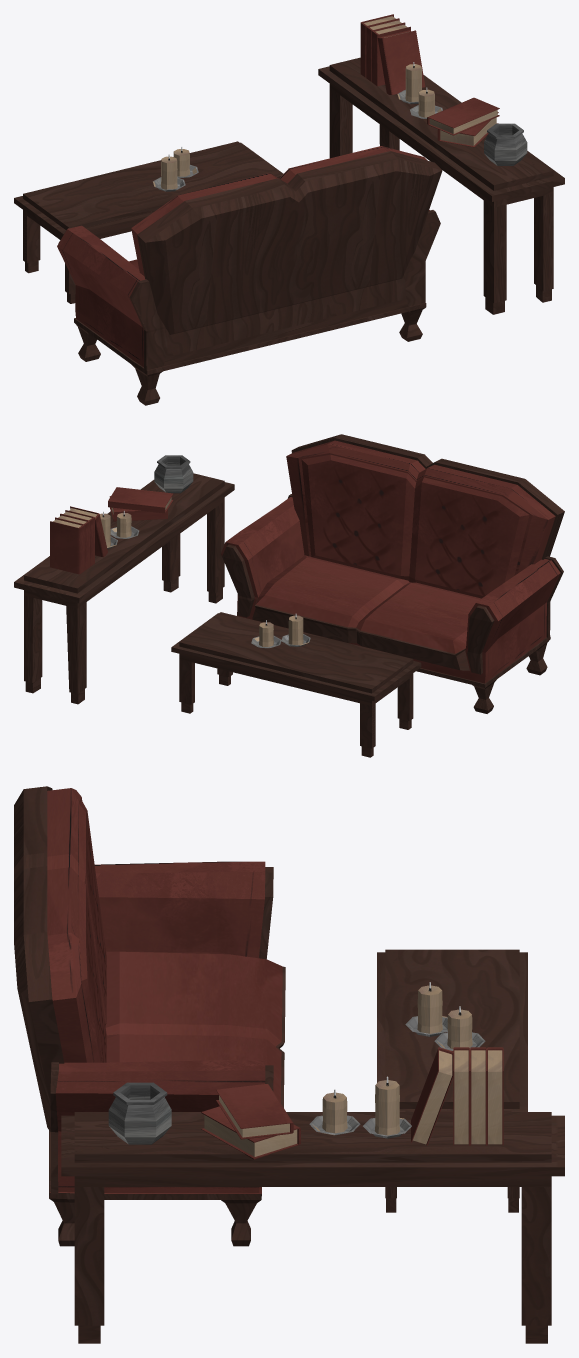
Rendered from fazladan koltuk.fbx.
The picture shows the model from 3 angles, top to bottom: view 1: azimuth 30°, elevation 25°; view 2: azimuth 150°, elevation 25°; view 3: azimuth 270°, elevation 25°; orthographic projection. The views are drawn at different scales.
Parts seen in each view (by area): view 1: KOLTUK.001, Cube.037, Cube.036, Cube.043, Cube.040, Cube.041, Cylinder.011, Cube.042, Cube.059, Cube.061, Cube.062, Cube.060; view 2: KOLTUK.001, Cube.036, Cube.037, Cube.040, Cube.041, Cylinder.011, Cube.059, Cube.043, Cube.060, Cube.062, Cube.042; view 3: KOLTUK.001, Cube.037, Cube.036, Cube.040, Cylinder.011, Cube.041, Cube.043, Cube.042, Cube.061, Cube.059, Cube.062, Cube.060.
Boxes of the visible parts, x1=… form: KOLTUK.001: x1=57, y1=146, x2=442, y2=405; Cube.037: x1=318, y1=57, x2=564, y2=314; Cube.036: x1=14, y1=141, x2=283, y2=303; Cube.043: x1=377, y1=30, x2=425, y2=94; Cube.040: x1=360, y1=14, x2=410, y2=86; Cube.041: x1=427, y1=97, x2=499, y2=135; Cylinder.011: x1=484, y1=123, x2=527, y2=165; Cube.042: x1=437, y1=112, x2=498, y2=147; Cube.059: x1=153, y1=154, x2=185, y2=191; Cube.061: x1=397, y1=62, x2=421, y2=104; Cube.062: x1=410, y1=87, x2=442, y2=118; Cube.060: x1=173, y1=146, x2=198, y2=177; KOLTUK.001: x1=221, y1=434, x2=564, y2=713; Cube.036: x1=171, y1=612, x2=421, y2=757; Cube.037: x1=14, y1=473, x2=234, y2=704; Cube.040: x1=50, y1=510, x2=94, y2=574; Cube.041: x1=108, y1=487, x2=173, y2=513; Cylinder.011: x1=154, y1=455, x2=193, y2=493; Cube.059: x1=281, y1=613, x2=310, y2=646; Cube.043: x1=69, y1=506, x2=107, y2=557; Cube.060: x1=251, y1=620, x2=281, y2=648; Cube.062: x1=110, y1=511, x2=139, y2=538; Cube.042: x1=109, y1=496, x2=167, y2=521; KOLTUK.001: x1=14, y1=786, x2=285, y2=1246; Cube.037: x1=61, y1=1112, x2=564, y2=1343; Cube.036: x1=377, y1=949, x2=527, y2=1212; Cube.040: x1=453, y1=1047, x2=503, y2=1145; Cylinder.011: x1=108, y1=1082, x2=171, y2=1144; Cube.041: x1=216, y1=1084, x2=293, y2=1139; Cube.043: x1=411, y1=1047, x2=453, y2=1145; Cube.042: x1=201, y1=1106, x2=300, y2=1159; Cube.061: x1=363, y1=1076, x2=411, y2=1138; Cube.059: x1=405, y1=982, x2=447, y2=1036; Cube.062: x1=309, y1=1089, x2=360, y2=1135; Cube.060: x1=434, y1=1006, x2=485, y2=1050.
Bounding box in the file's own units: 597 × 260 × 448.
11 materials, 9 textured.
